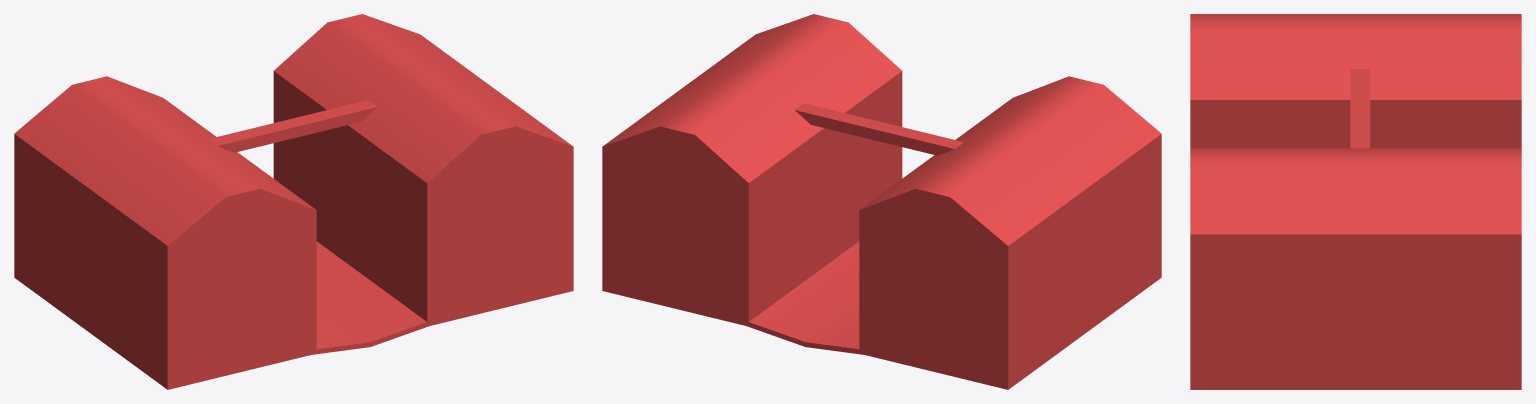
File: Ground_Straight_Wood_COL.fbx
3 renders of one model, left to right at view 1: azimuth 30°, elevation 25°; view 2: azimuth 150°, elevation 25°; view 3: azimuth 270°, elevation 25°, orthographic. The views are drawn at different scales.
Visible parts, largest first — view 1: Ground_Straight_Wood_COL; view 2: Ground_Straight_Wood_COL; view 3: Ground_Straight_Wood_COL.
Boxes of the visible parts, left/top/right/bottom form: Ground_Straight_Wood_COL: left=14, top=14, right=573, bottom=389; Ground_Straight_Wood_COL: left=602, top=14, right=1161, bottom=389; Ground_Straight_Wood_COL: left=1190, top=14, right=1521, bottom=389.
Size of the model in its own units: 611 by 266 by 400.
